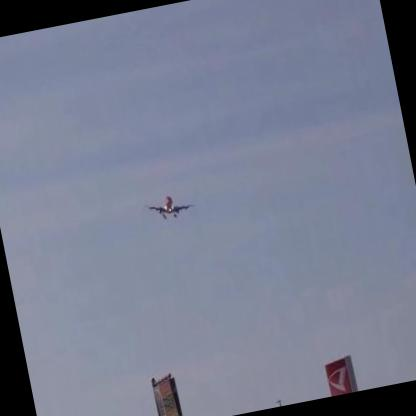plane: (142, 188, 199, 224)
